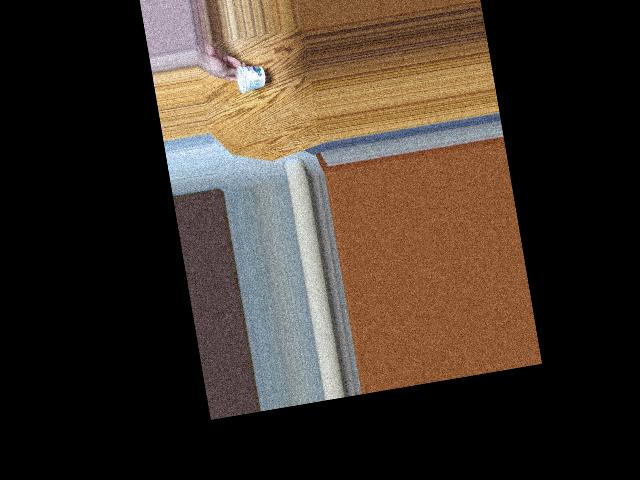cotage: (228, 59, 266, 99)
